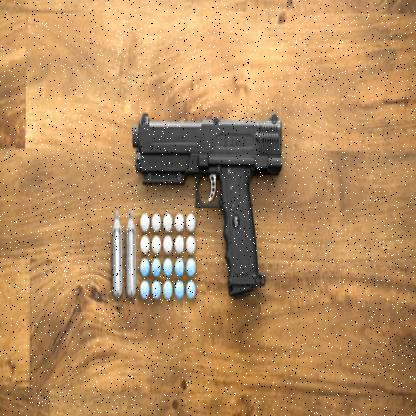pistol: (130, 110, 284, 299)
